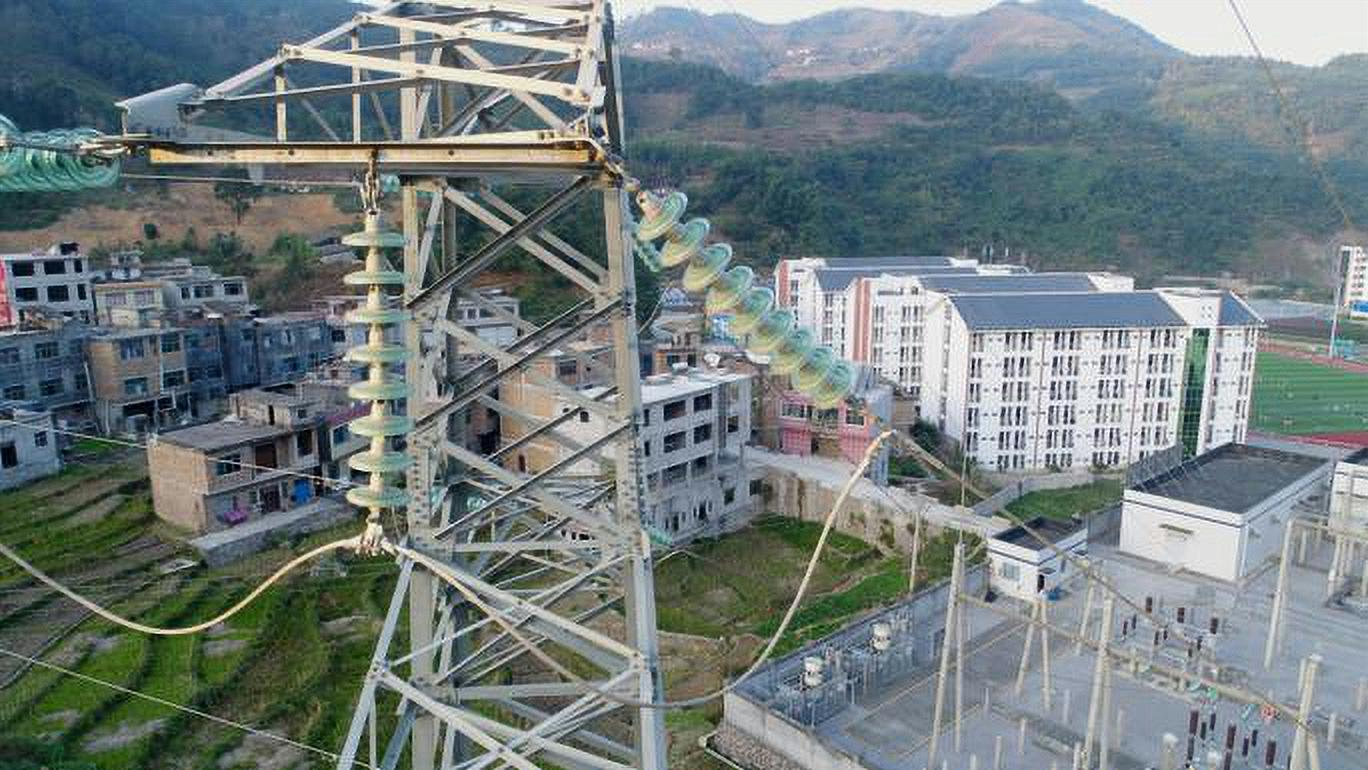insulator: (630, 185, 864, 412), (334, 222, 423, 518), (1, 106, 127, 202)
